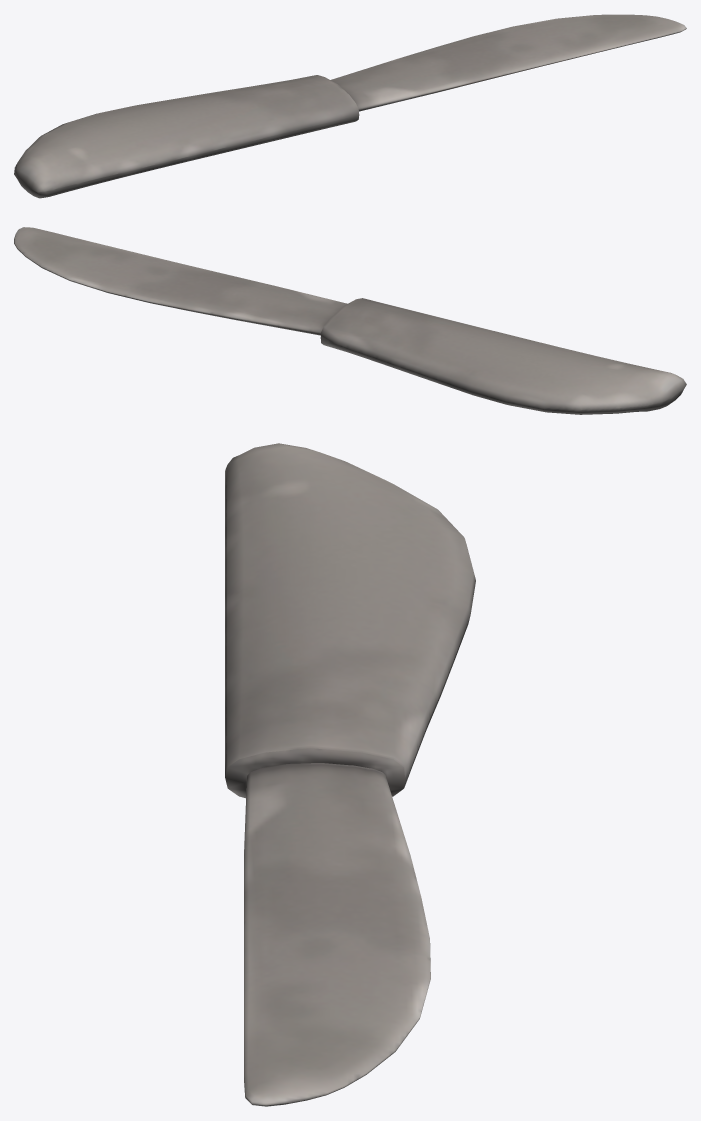
Rendered from SM_BreakfastProps_Knife.fbx.
3 renders of one model, top to bottom at view 1: azimuth 30°, elevation 25°; view 2: azimuth 150°, elevation 25°; view 3: azimuth 270°, elevation 25°, orthographic. The views are drawn at different scales.
Parts seen in each view (by area): view 1: SM_BreakfastProps_Knife_LOD0; view 2: SM_BreakfastProps_Knife_LOD0; view 3: SM_BreakfastProps_Knife_LOD0.
Part boxes in pixels (<box>): SM_BreakfastProps_Knife_LOD0: <box>14,14,686,198</box>; SM_BreakfastProps_Knife_LOD0: <box>14,227,686,414</box>; SM_BreakfastProps_Knife_LOD0: <box>225,443,475,1106</box>.
Size of the model in its own units: 25.12 by 4.15 by 1.24.
1 material, 1 textured.
